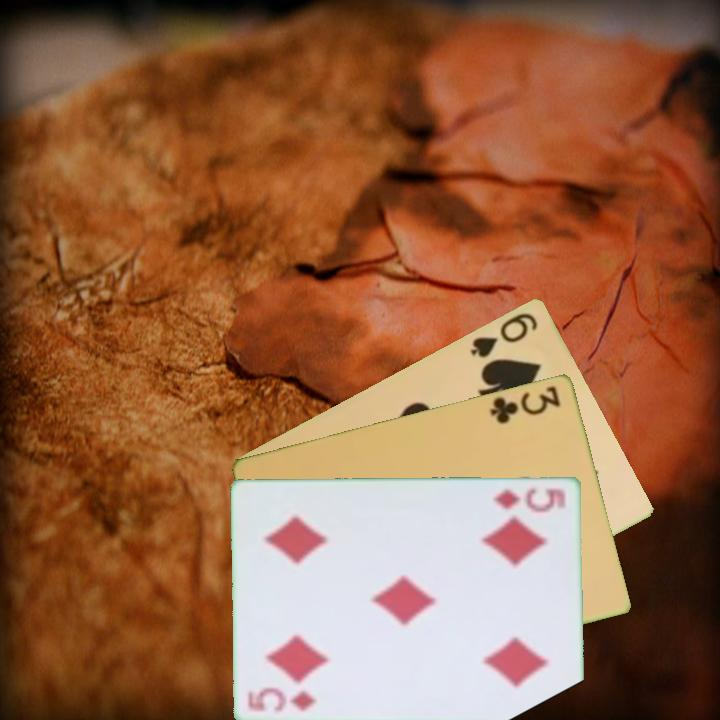3c: (486, 381, 564, 427)
5d: (490, 484, 570, 514), (244, 687, 320, 714)
6s: (466, 308, 541, 360)
